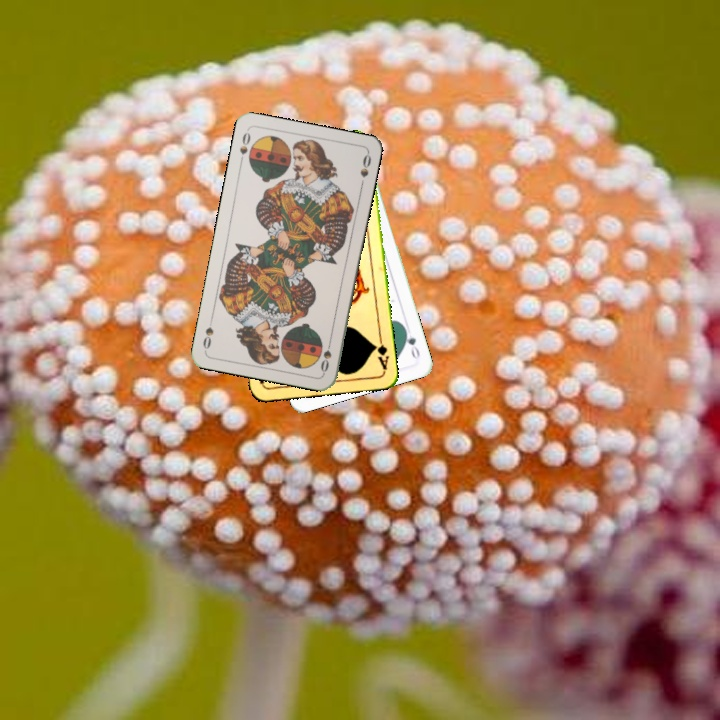GA: (370, 332, 391, 372)
GO: (400, 323, 422, 362)
SO: (317, 335, 334, 375), (236, 128, 253, 167)
